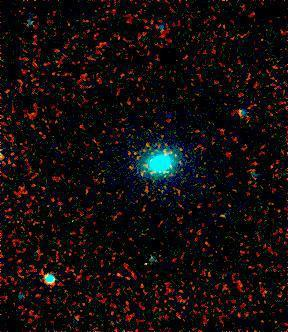star: (207, 201, 237, 231)
